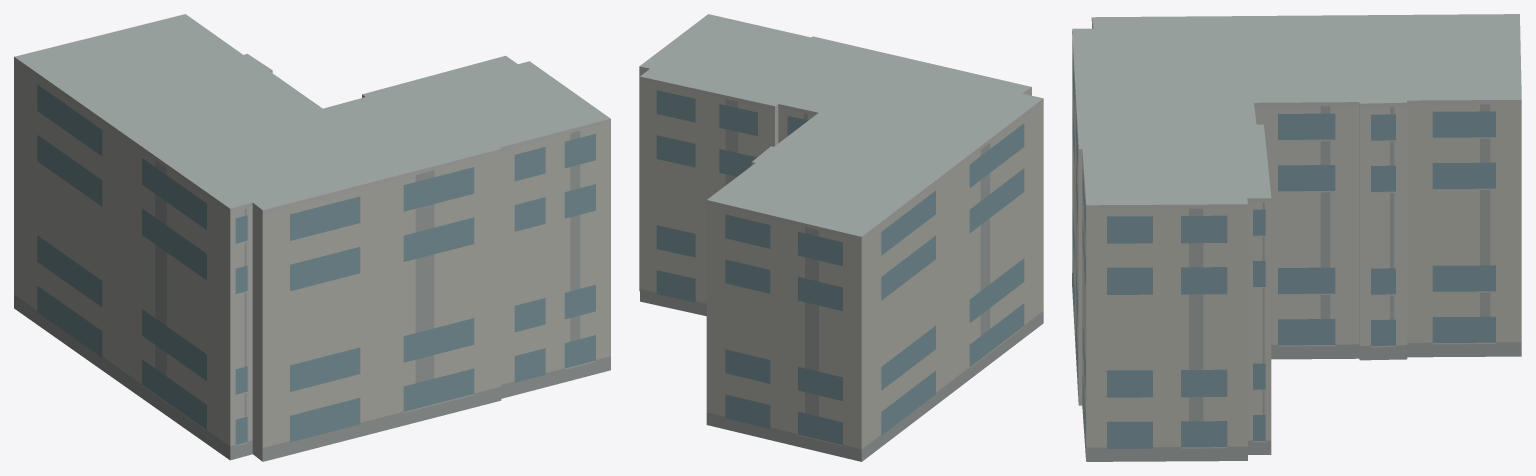
Rendered from survey-upis-32748409.glb.
3 renders of one model, left to right at view 1: azimuth 30°, elevation 25°; view 2: azimuth 150°, elevation 25°; view 3: azimuth 270°, elevation 25°, orthographic. The views are drawn at different scales.
Visible parts, largest first — view 1: survey-upis-32748409.tmp; view 2: survey-upis-32748409.tmp; view 3: survey-upis-32748409.tmp.
Boxes of the visible parts, x1,y1,x2,y2 form: survey-upis-32748409.tmp: [14, 14, 610, 461]; survey-upis-32748409.tmp: [639, 14, 1043, 461]; survey-upis-32748409.tmp: [1072, 14, 1521, 461].
Size of the model in its own units: 24.07 by 15.06 by 23.92.
